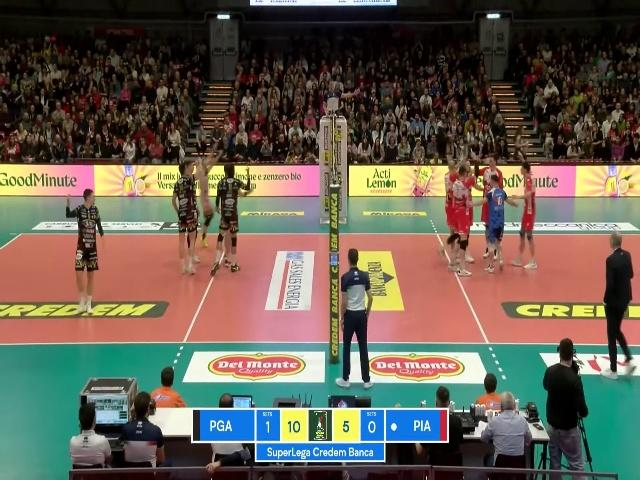volleyball court: (0, 229, 639, 344)
